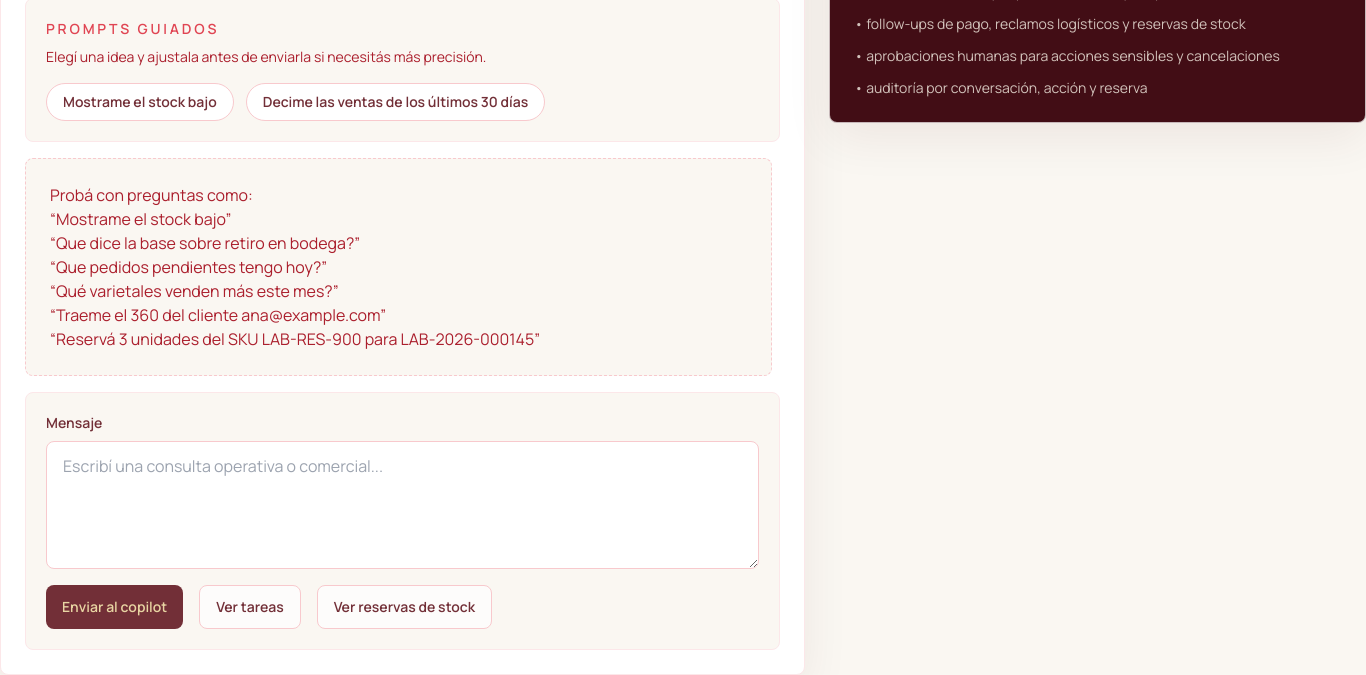
Test case: BackofficeCopilotPage › lets the operator approve a blocked action directly from Copilot
The image size is (1366, 675).
(page scrolled)
Type "Reservá 3 unidades del SKU LAB-RES-900 para LAB-2026-000145" into the text box labelled "Mensaje". click: (403, 504)
box: [46,440,759,568]
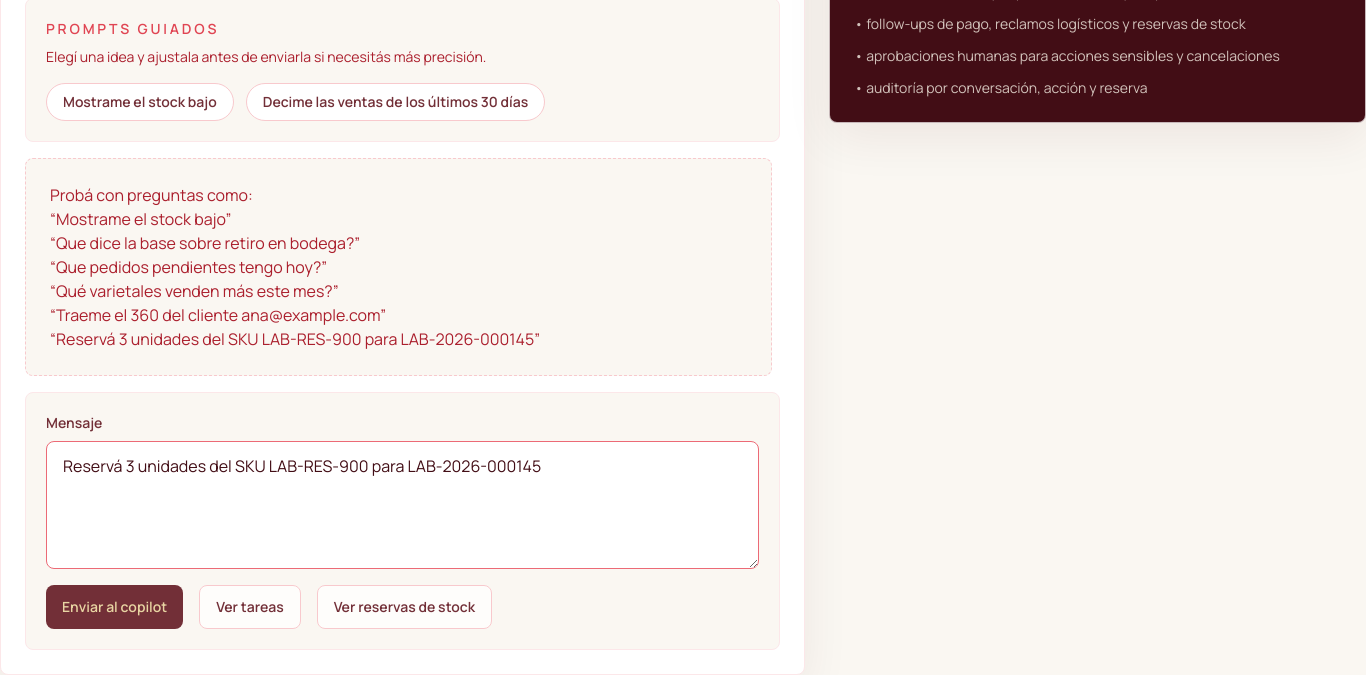
Click the button "Enviar al copilot". click: (115, 606)
box: [46,584,183,628]
(page scrolled)
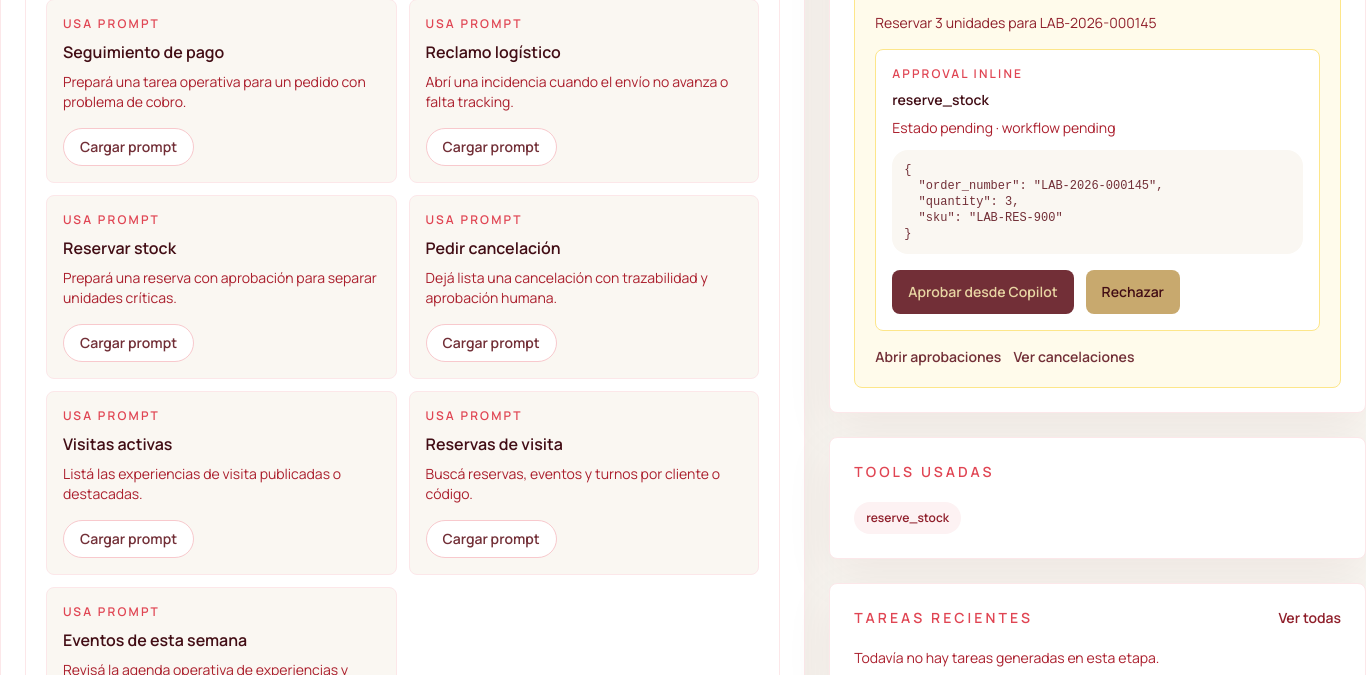
Result: the button "Aprobar desde Copilot" is shown
Click the button "Aprobar desde Copilot". click: (983, 292)
box: [892,270,1074,314]
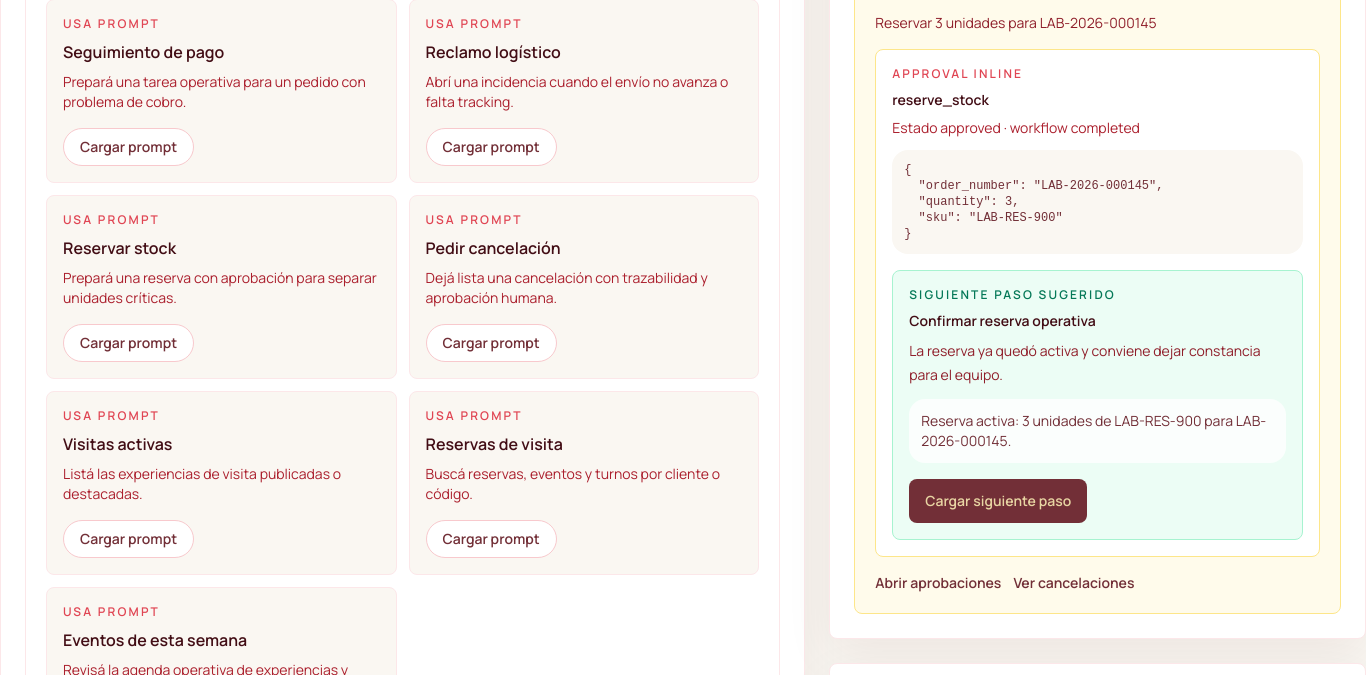
Result: the text "Siguiente paso sugerido" is shown at [909,286,1116,302]
Result: the text "Confirmar reserva operativa" is shown at [909,310,1096,330]
Click the button "Cargar siguiente paso". click: (998, 500)
box: [909,478,1087,522]
(page scrolled)
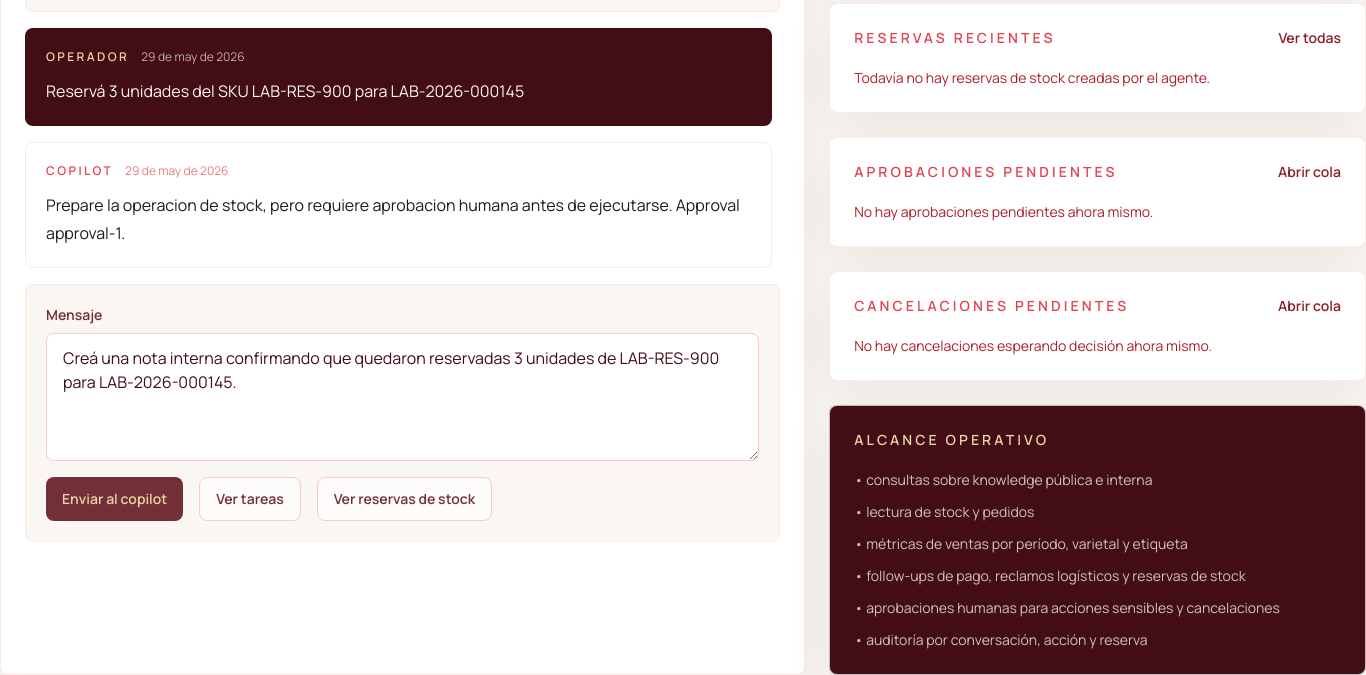
Result: the text box labelled "Mensaje" holds "Creá una nota interna confirmando que quedaron reservadas 3 unidades de LAB-RES-900 para LAB-2026-000145." at [46,332,759,460]
